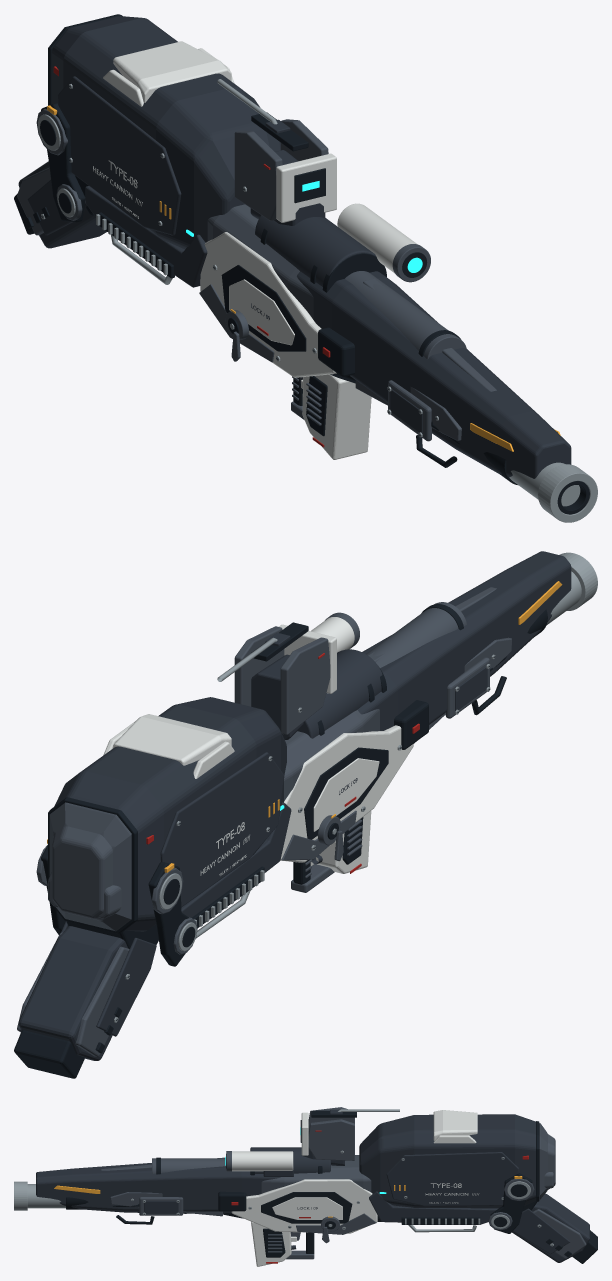
File: TYPE08_CANNON.glb
3 views of the same model, one above another, from view 1: azimuth 30°, elevation 25°; view 2: azimuth 150°, elevation 25°; view 3: azimuth 270°, elevation 25° (orthographic). The views are drawn at different scales.
Parts seen in each view (by area): view 1: TYPE08_LOD0; view 2: TYPE08_LOD0; view 3: TYPE08_LOD0.
Boxes of the visible parts, x1,y1,x2,y2 form: TYPE08_LOD0: (14, 14, 597, 522); TYPE08_LOD0: (14, 551, 597, 1078); TYPE08_LOD0: (14, 1107, 597, 1266).
Bounding box in the file's own units: 0.4678 × 1.01 × 3.49.
